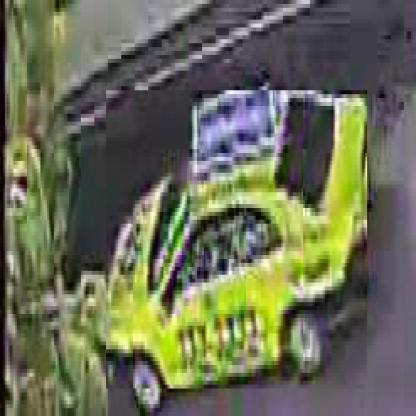car: (107, 92, 370, 394)
